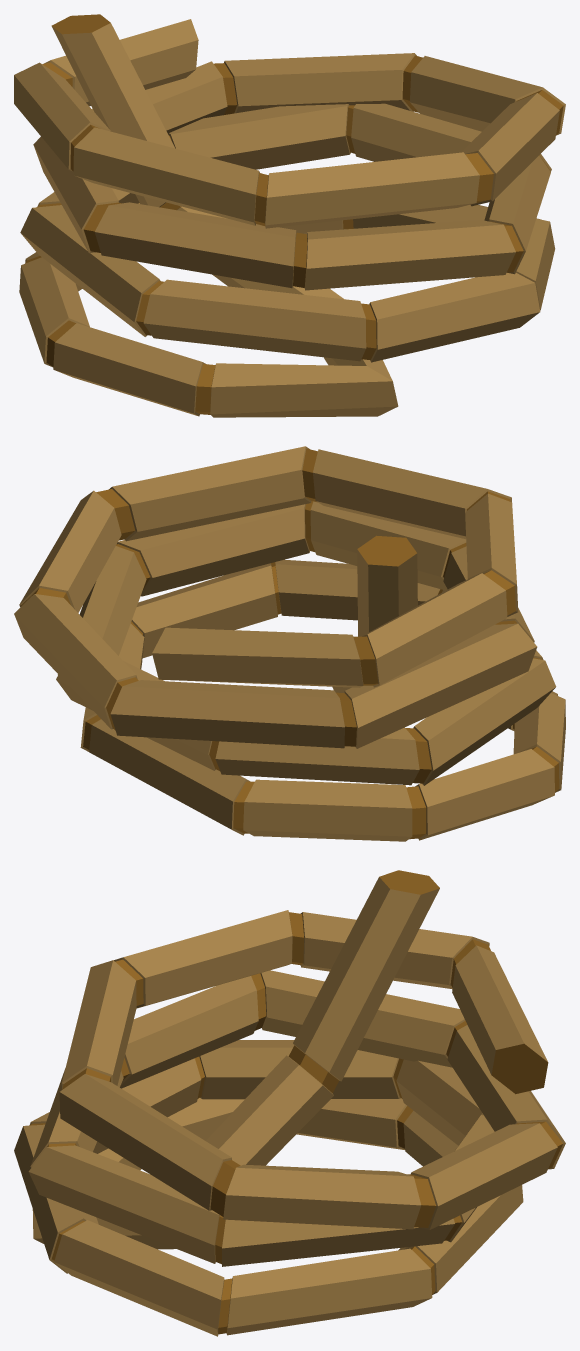
Rendered from Rope.fbx.
3 views of the same model, one above another, from view 1: azimuth 30°, elevation 25°; view 2: azimuth 150°, elevation 25°; view 3: azimuth 270°, elevation 25° (orthographic). The views are drawn at different scales.
Parts seen in each view (by area): view 1: BézierCurve; view 2: BézierCurve; view 3: BézierCurve.
Part boxes in pixels (x1=…): BézierCurve: x1=14, y1=14, x2=565, y2=417; BézierCurve: x1=14, y1=446, x2=565, y2=841; BézierCurve: x1=14, y1=870, x2=565, y2=1336.
Size of the model in its own units: 0.4282 by 0.247 by 0.4002.
